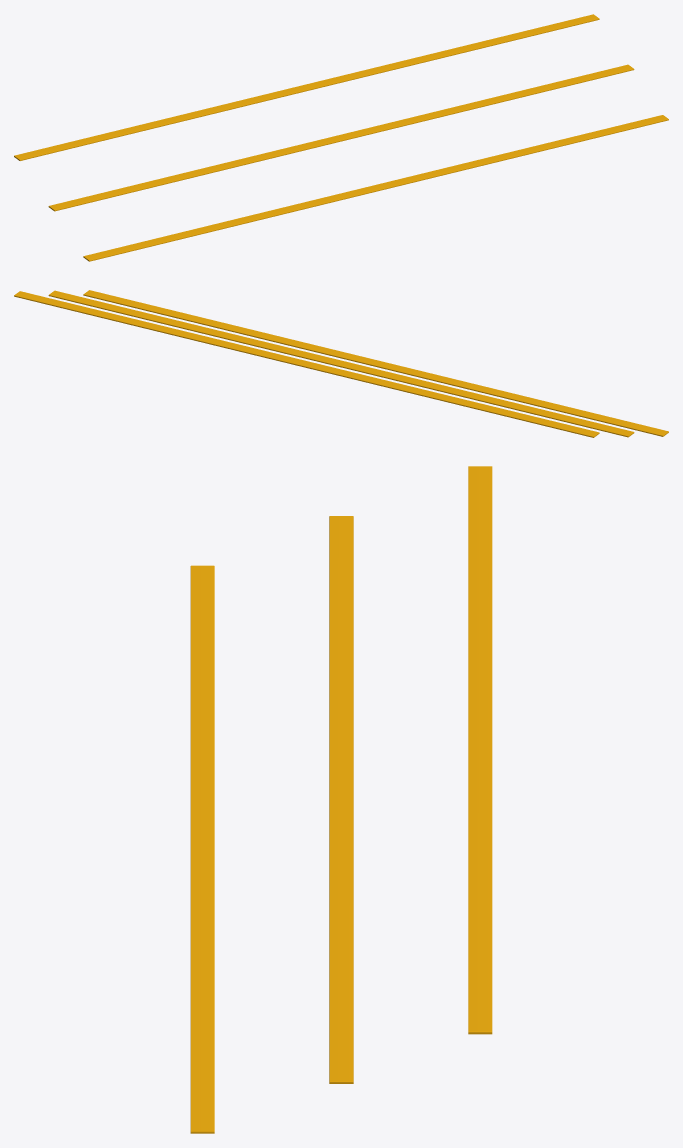
The model's file is gteki_ik_stair_n3_r125_t316_w3065_nosing.glb.
3 renders of one model, top to bottom at view 1: azimuth 30°, elevation 25°; view 2: azimuth 150°, elevation 25°; view 3: azimuth 270°, elevation 25°, orthographic. The views are drawn at different scales.
Visible parts, largest first — view 1: VIS_nosings; view 2: VIS_nosings; view 3: VIS_nosings.
Part boxes in pixels (<box>): VIS_nosings: <box>14,14,668,261</box>; VIS_nosings: <box>14,290,668,437</box>; VIS_nosings: <box>190,466,492,1133</box>.
Bounding box in the file's own units: 3.05 × 0.256 × 0.687.
